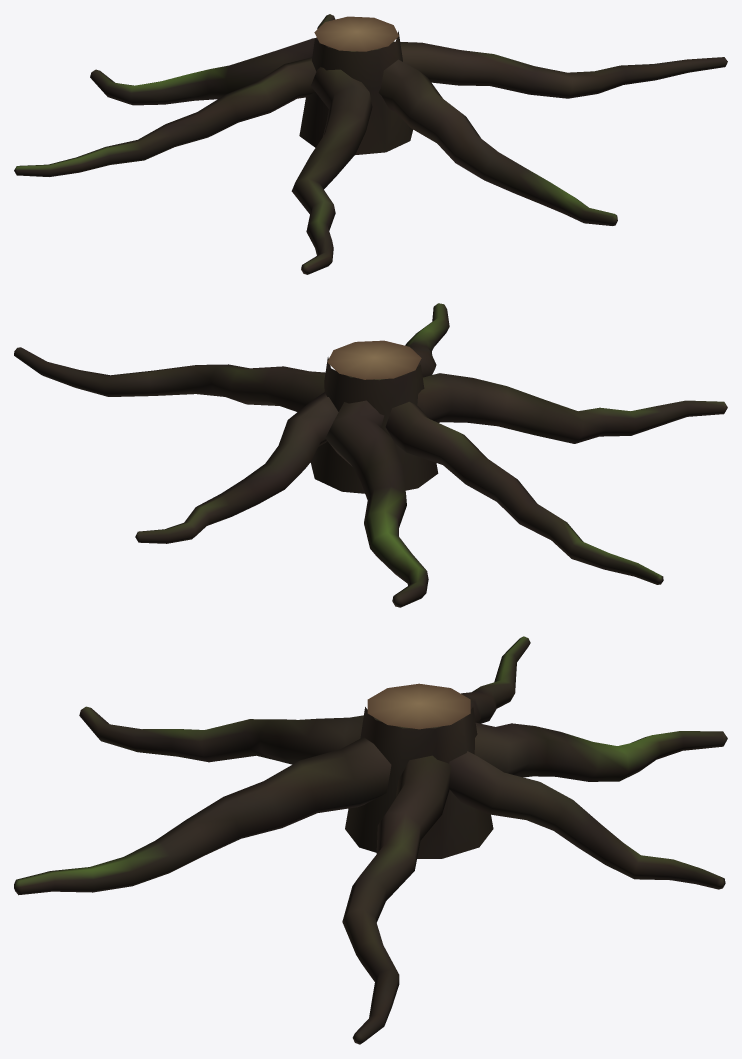
The model's file is roots-a.lod0.glb.
3 renders of one model, top to bottom at view 1: azimuth 30°, elevation 25°; view 2: azimuth 150°, elevation 25°; view 3: azimuth 270°, elevation 25°, orthographic. The views are drawn at different scales.
Parts seen in each view (by area): view 1: roots-a.lod0; view 2: roots-a.lod0; view 3: roots-a.lod0.
Boxes of the visible parts, x1,y1,x2,y2 form: roots-a.lod0: [14, 14, 727, 274]; roots-a.lod0: [14, 303, 727, 607]; roots-a.lod0: [14, 636, 727, 1044].
Bounding box in the file's own units: 2.8 × 0.4462 × 2.11.
